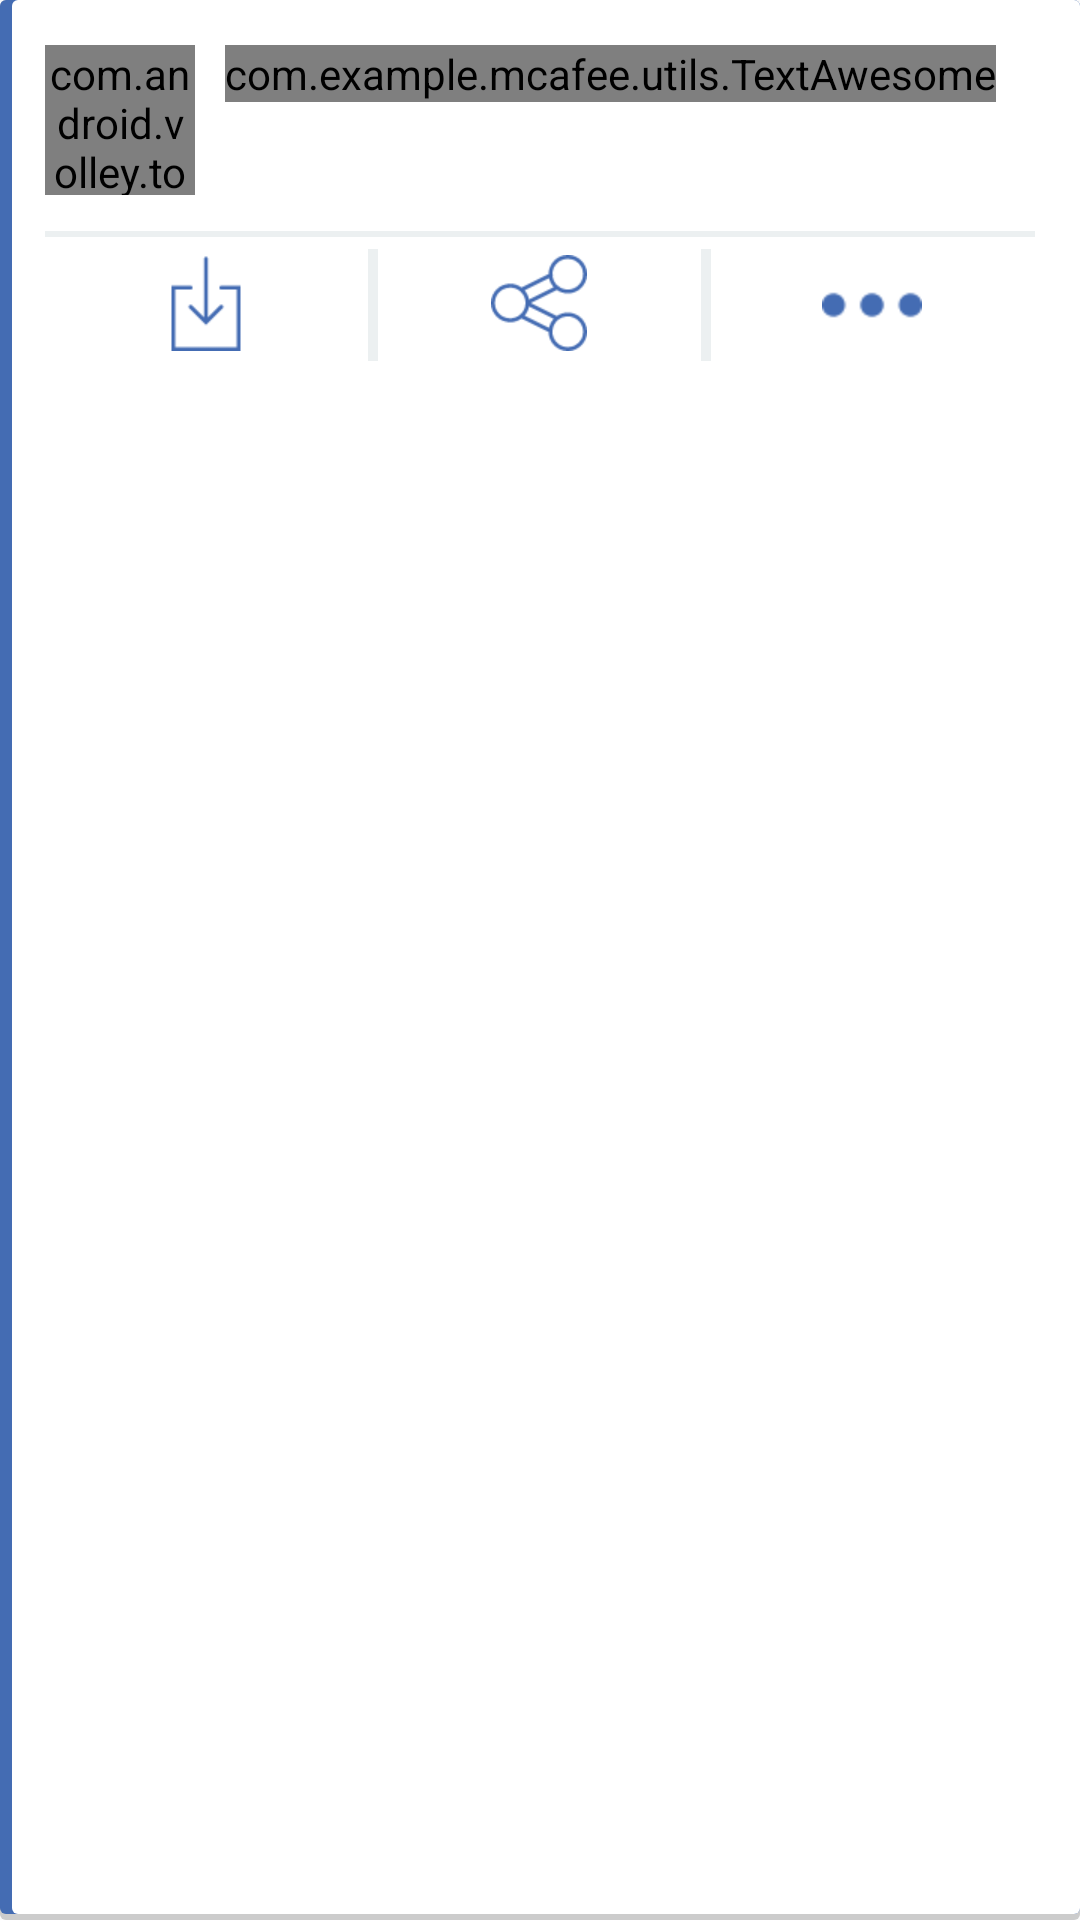

Icons on this 1080w x 1920h Android screen, each with the point to tap as point (x, y):
download: point (206, 303)
more: point (872, 305)
share: point (539, 303)
